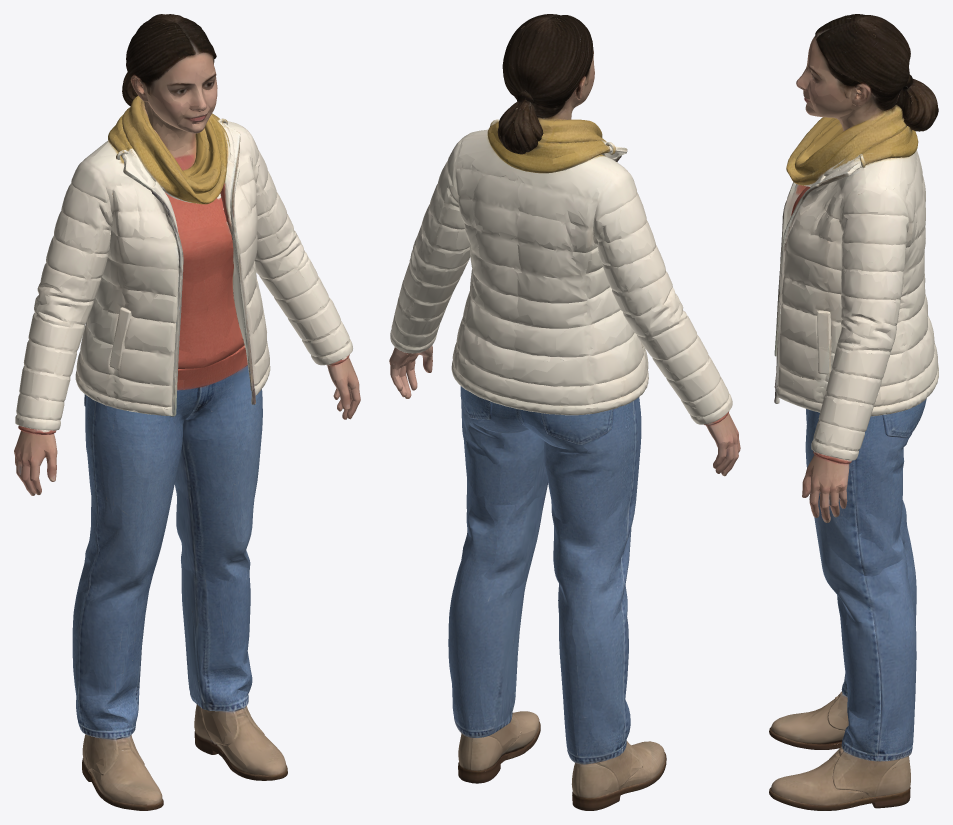
Rendered from character_n01_generated.glb.
3 renders of one model, left to right at view 1: azimuth 30°, elevation 25°; view 2: azimuth 150°, elevation 25°; view 3: azimuth 270°, elevation 25°, orthographic.
Size of the model in its own units: 0.895 by 1.9 by 0.3888.
1 material, 1 textured.
